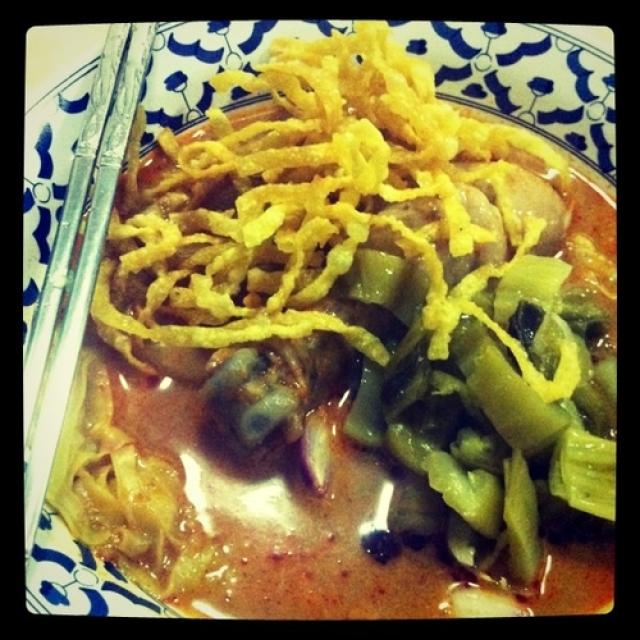面条主食: (69, 44, 602, 602)
